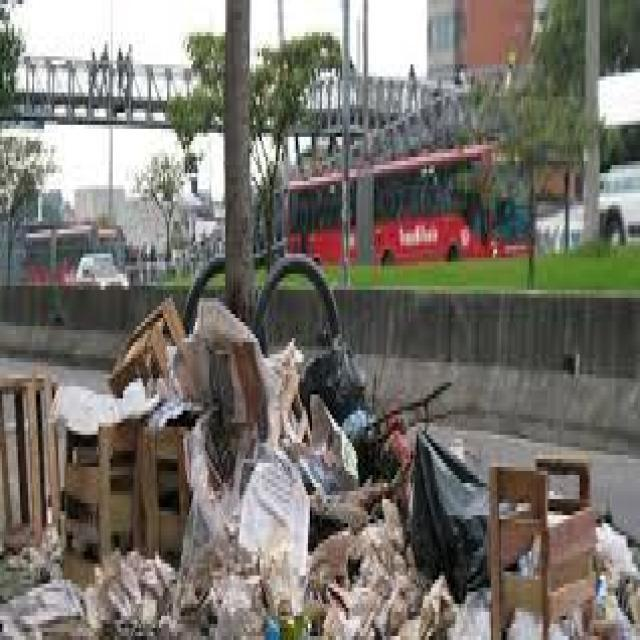garbage: (0, 302, 312, 640), (408, 412, 640, 640), (298, 316, 373, 441)
